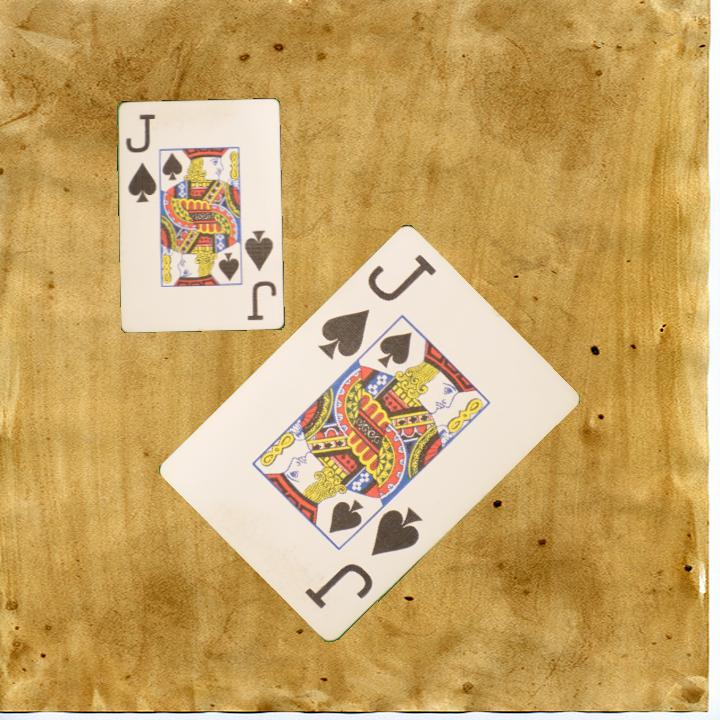Js: (314, 250, 440, 363), (300, 501, 426, 612), (241, 227, 280, 324), (123, 111, 160, 206)
